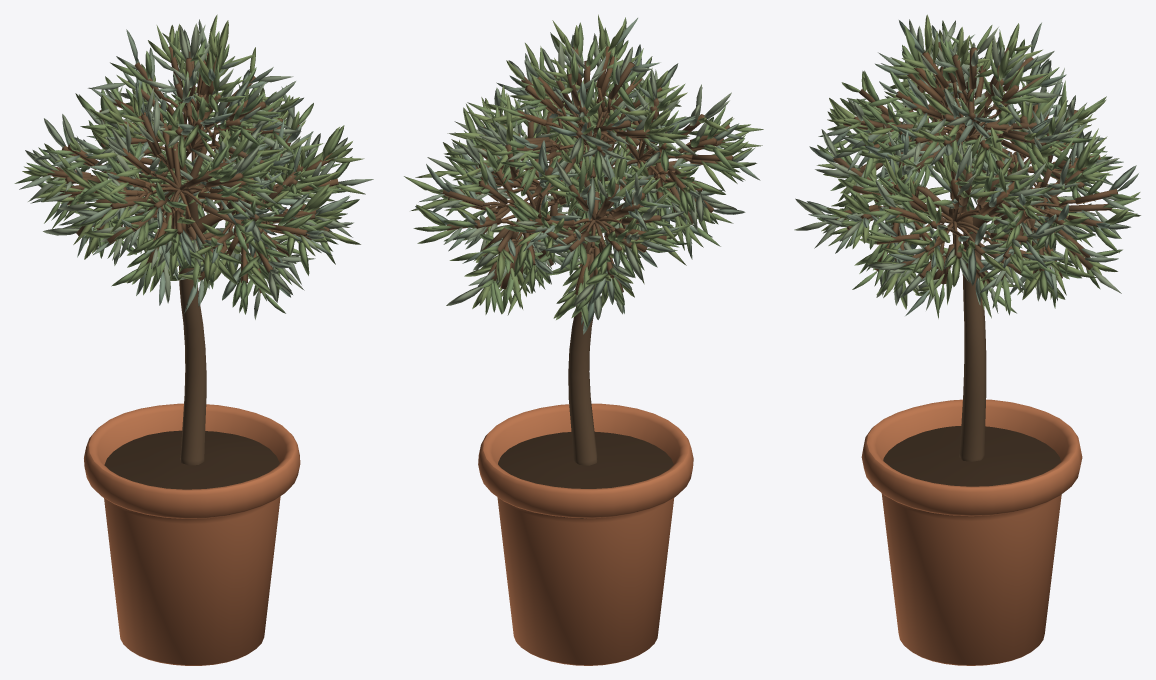
The model's file is pot_olive.glb.
3 views of the same model, side by side, from view 1: azimuth 30°, elevation 25°; view 2: azimuth 150°, elevation 25°; view 3: azimuth 270°, elevation 25° (orthographic).
Visible parts, largest first — view 1: Sammel Pflanze, Sammel Putz, Sammel Holz; view 2: Sammel Pflanze, Sammel Putz, Sammel Holz; view 3: Sammel Pflanze, Sammel Putz, Sammel Holz.
Part boxes in pixels (x1,y1,x2,y2): Sammel Pflanze: (14,14,373,319); Sammel Putz: (84,403,300,665); Sammel Holz: (47,46,338,465); Sammel Pflanze: (404,14,763,334); Sammel Putz: (478,403,693,665); Sammel Holz: (442,46,733,465); Sammel Pflanze: (794,14,1140,318); Sammel Putz: (861,399,1082,665); Sammel Holz: (833,42,1117,461).
Size of the model in its own units: 0.7604 by 1.48 by 0.7549.
